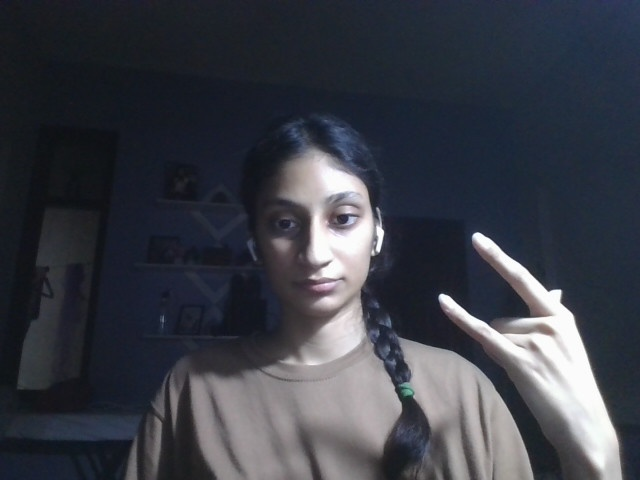i love you: (434, 232, 622, 464)
